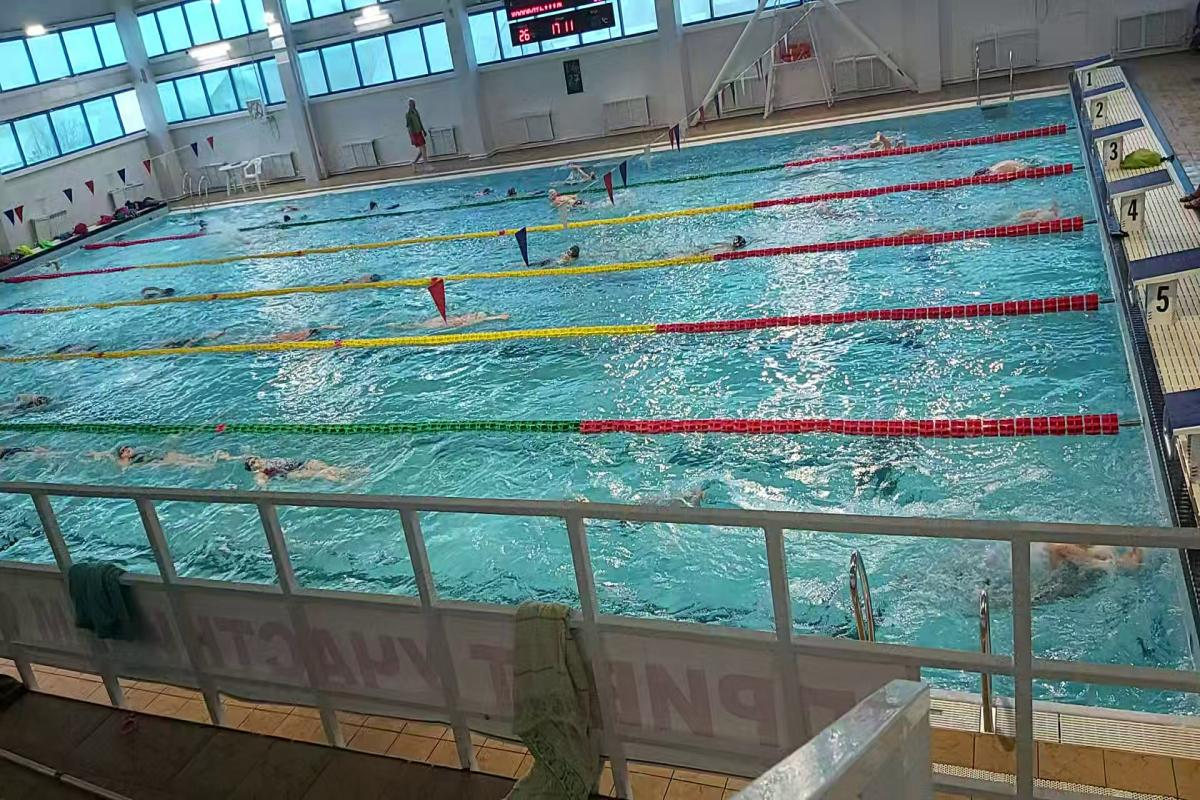swimmer: (228, 444, 371, 487), (97, 438, 217, 475), (258, 318, 350, 341), (543, 182, 602, 214), (535, 237, 587, 270), (695, 231, 751, 256), (960, 156, 1037, 171), (135, 276, 189, 297)
